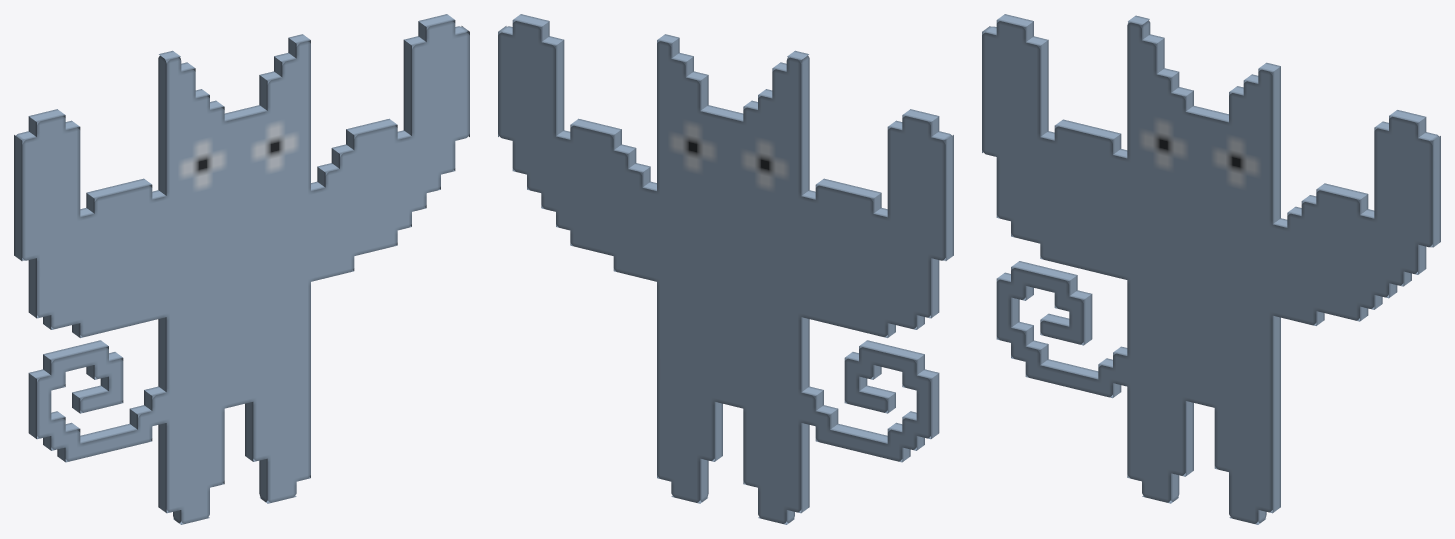
Rendered from cat8G.fbx.
The picture shows the model from 3 angles, left to right: view 1: azimuth 30°, elevation 25°; view 2: azimuth 150°, elevation 25°; view 3: azimuth 330°, elevation 25°; orthographic projection.
Parts seen in each view (by area): view 1: generated; view 2: generated; view 3: generated.
Part boxes in pixels (bbox=[...]): generated: bbox=[14, 14, 469, 524]; generated: bbox=[498, 14, 953, 524]; generated: bbox=[982, 14, 1440, 524].
Bounding box in the file's own units: 310 × 310 × 10.
